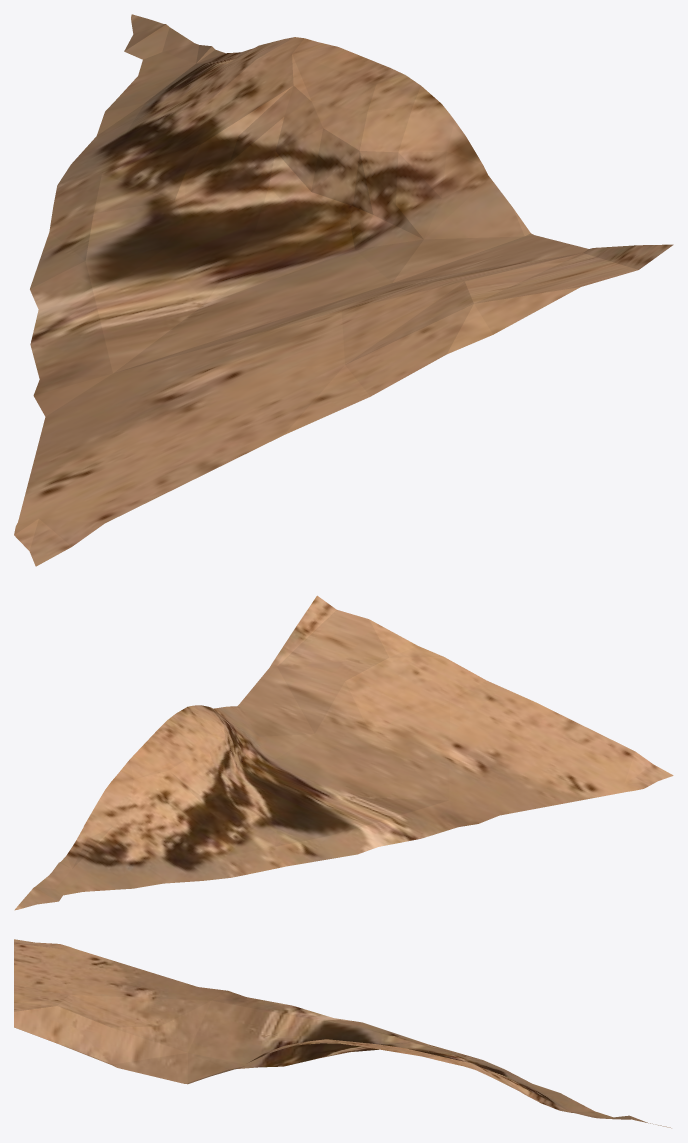
3 views of the same model, one above another, from view 1: azimuth 30°, elevation 25°; view 2: azimuth 150°, elevation 25°; view 3: azimuth 270°, elevation 25° (orthographic). The views are drawn at different scales.
Bounding box in the file's own units: 0.4438 × 0.1106 × 0.6531.
Materials: 1 (1 with a texture image).
